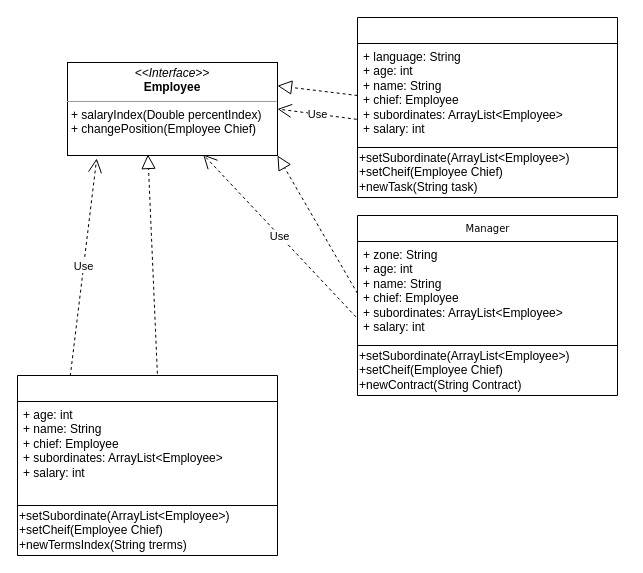
The diagram is 643 pixels wide and 573 high, and some of its shapes have lost their labels. The shapes that lost their labels are listed below. From the top down, each one's box as (x1, y1, x2, y2) in pixels, then its label:
(356, 16, 618, 198): Developer
(16, 374, 278, 556): Accountant
